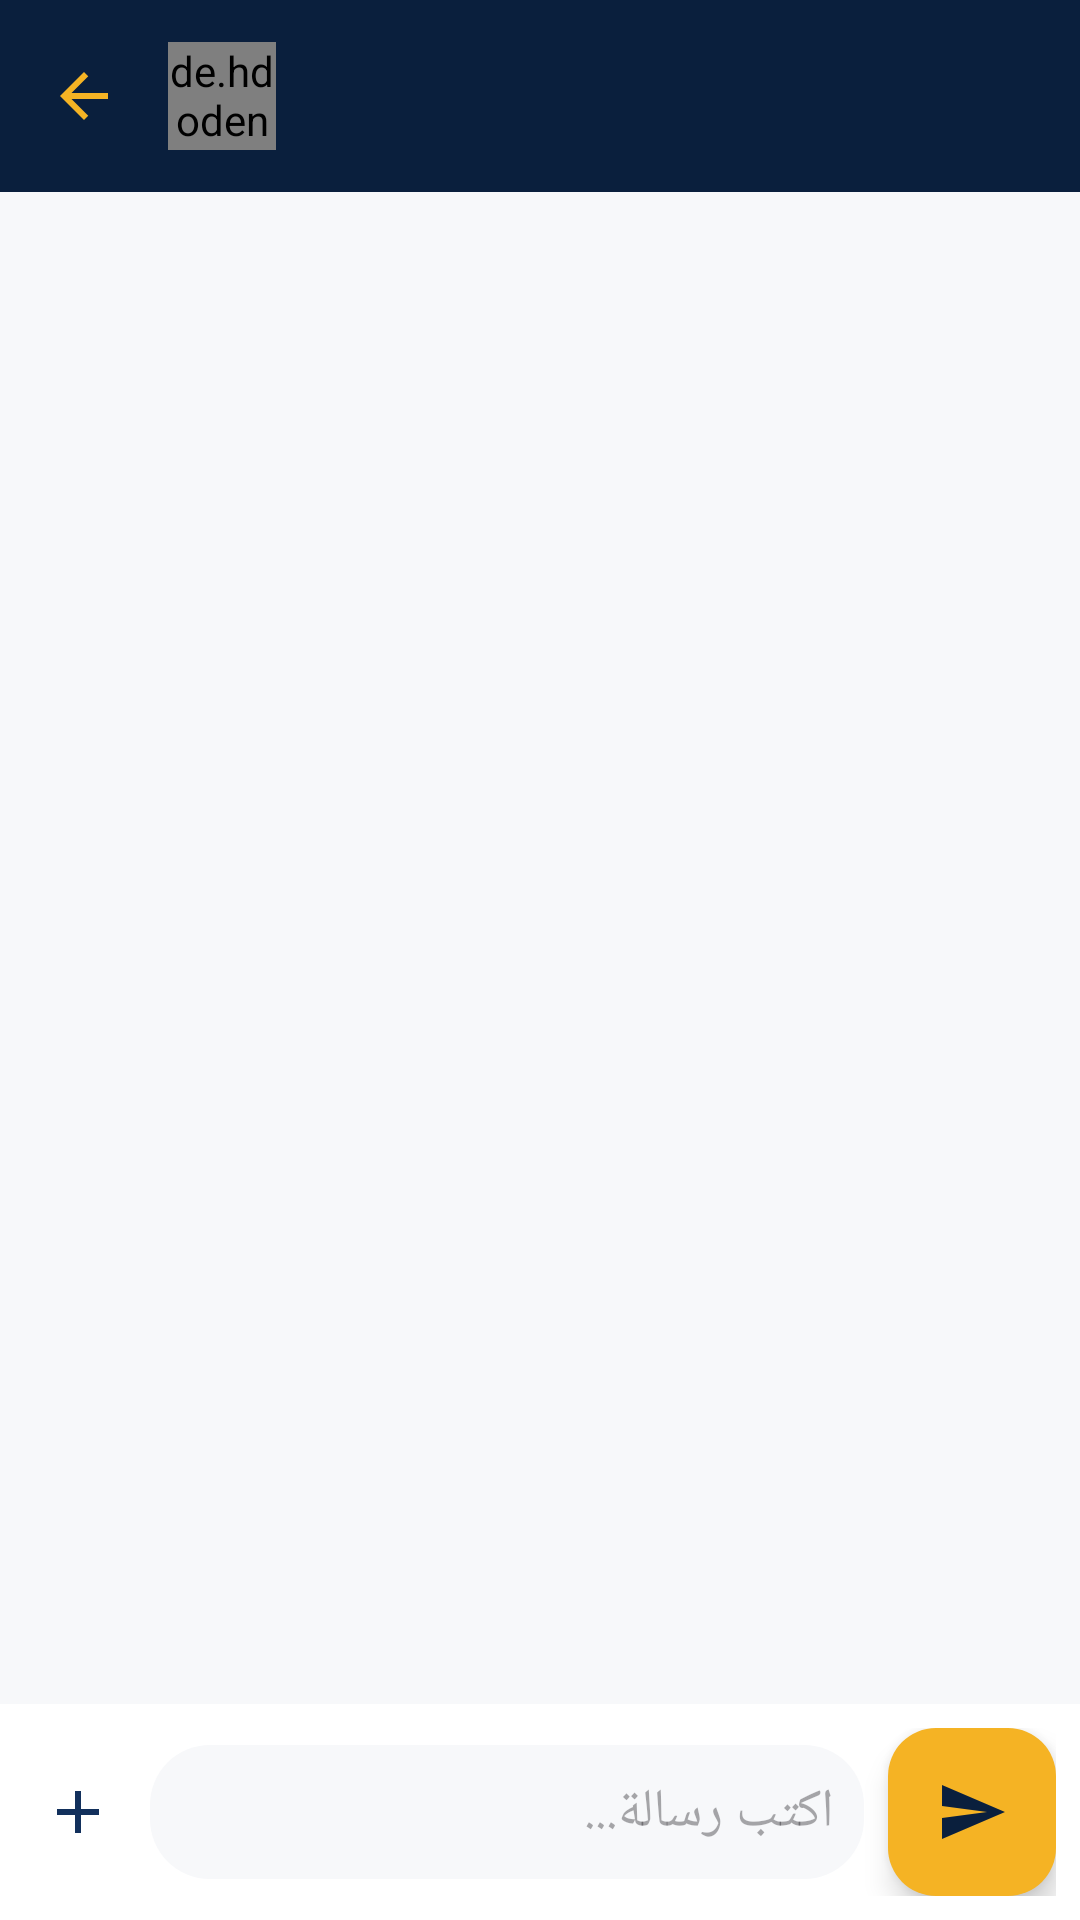

Screen size 1080×1920. Icon name, then its center in pixels as point (x, y):
add: point (78, 1812)
send: point (972, 1812)
